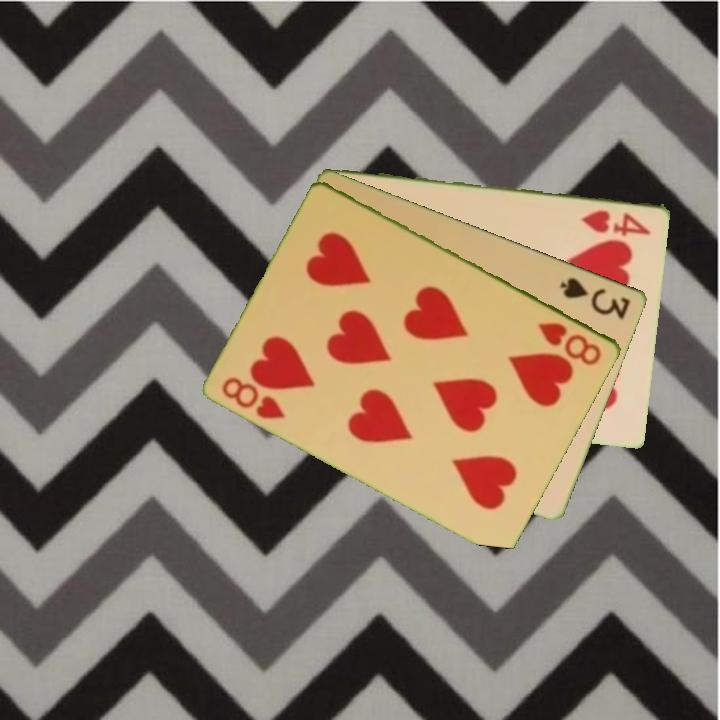3s: (556, 273, 634, 322)
4h: (578, 206, 655, 238)
8h: (535, 318, 605, 369), (218, 373, 289, 422)
